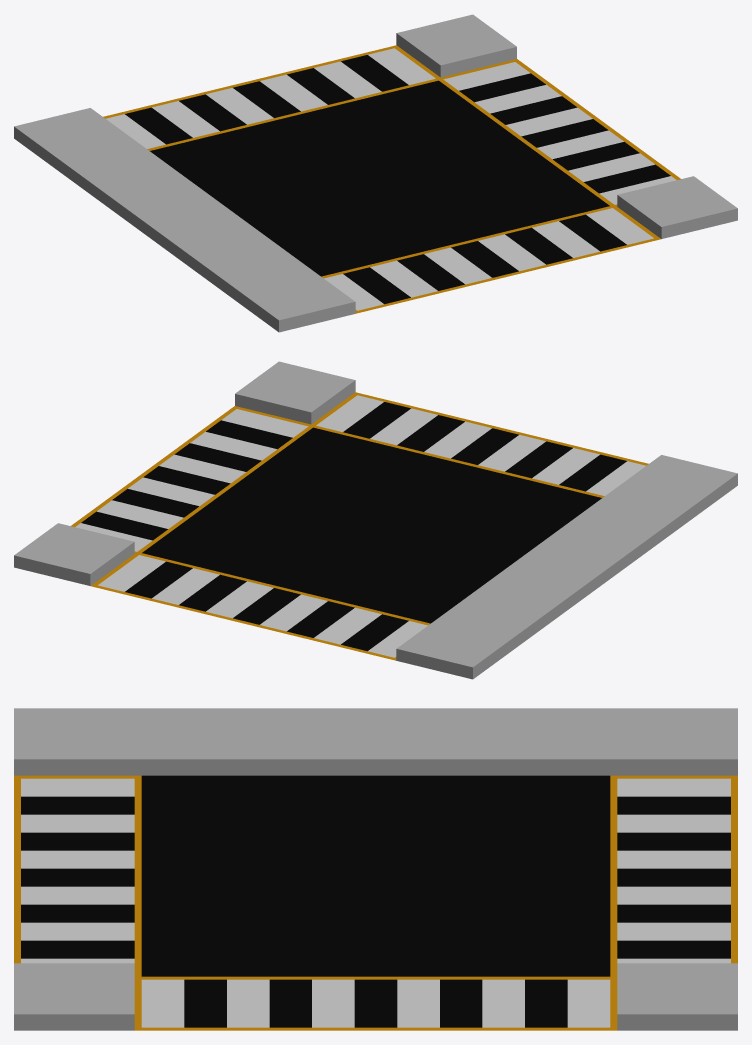
The model's file is walking_road2.glb.
3 views of the same model, one above another, from view 1: azimuth 30°, elevation 25°; view 2: azimuth 150°, elevation 25°; view 3: azimuth 270°, elevation 25° (orthographic). The views are drawn at different scales.
Parts seen in each view (by area): view 1: Walking Road2.001_Material.008_0; view 2: Walking Road2.001_Material.008_0; view 3: Walking Road2.001_Material.008_0.
Boxes of the visible parts, x1,y1,x2,y2 form: Walking Road2.001_Material.008_0: [14, 14, 737, 332]; Walking Road2.001_Material.008_0: [14, 361, 737, 679]; Walking Road2.001_Material.008_0: [14, 708, 737, 1030].
Size of the model in its own units: 2 by 0.0504 by 2.
Materials: 1 (1 with a texture image).
